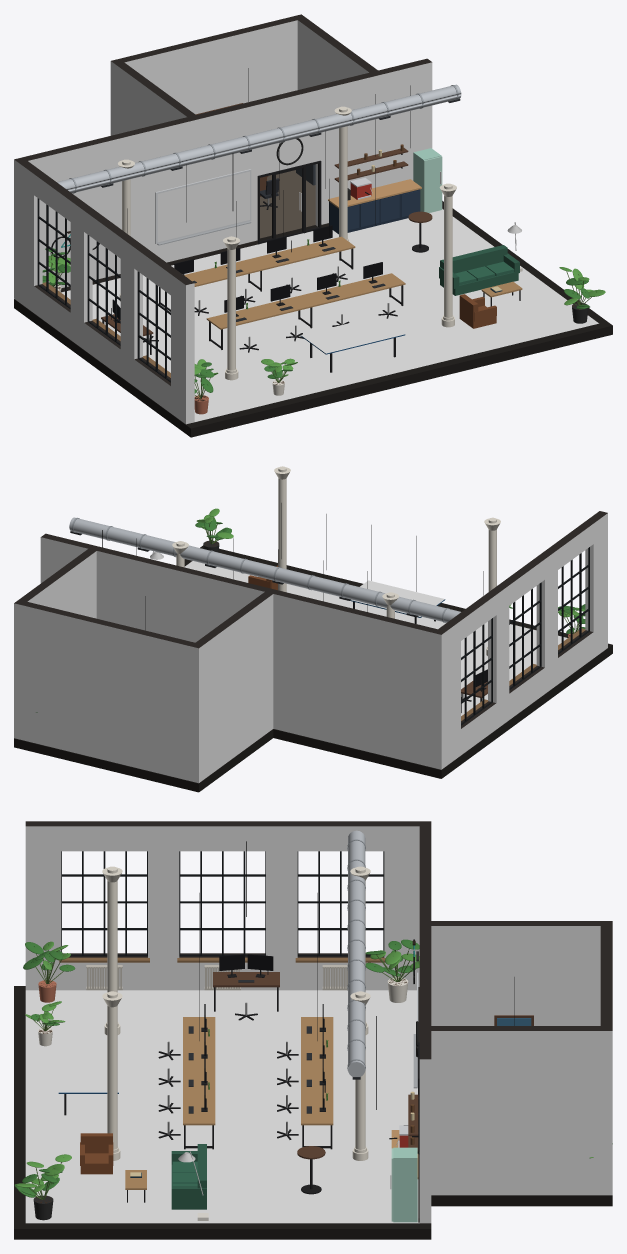
The model's file is room.glb.
3 views of the same model, one above another, from view 1: azimuth 30°, elevation 25°; view 2: azimuth 150°, elevation 25°; view 3: azimuth 270°, elevation 25° (orthographic). The views are drawn at different scales.
Parts seen in each view (by area): view 1: Room; view 2: Room; view 3: Room.
Boxes of the visible parts, left/top/right/bottom form: Room: left=14, top=14, right=612, bottom=437; Room: left=14, top=466, right=612, bottom=792; Room: left=14, top=821, right=612, bottom=1239.
Bounding box in the file's own units: 14.6 × 4.91 × 15.21.
